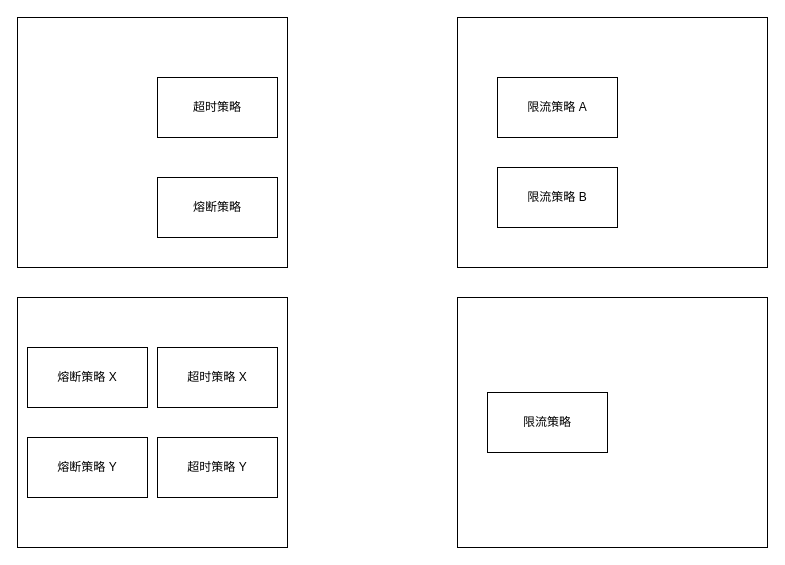
Some shapes in this 785 by 565 pixel diagram are drawn without their labels. The shapes that lost their labels are listed below. From the top down, each one's box as (x1, y1, x2, y2) in pixels, then its label:
(16, 16, 288, 268): Consumer A 服务调用方 A
(456, 16, 768, 268): Provider X 服务提供方（被低啊用方）
(16, 296, 288, 548): Consumer B 服务调用方 B
(456, 296, 768, 548): Provider Y 服务提供方（被低啊用方）
